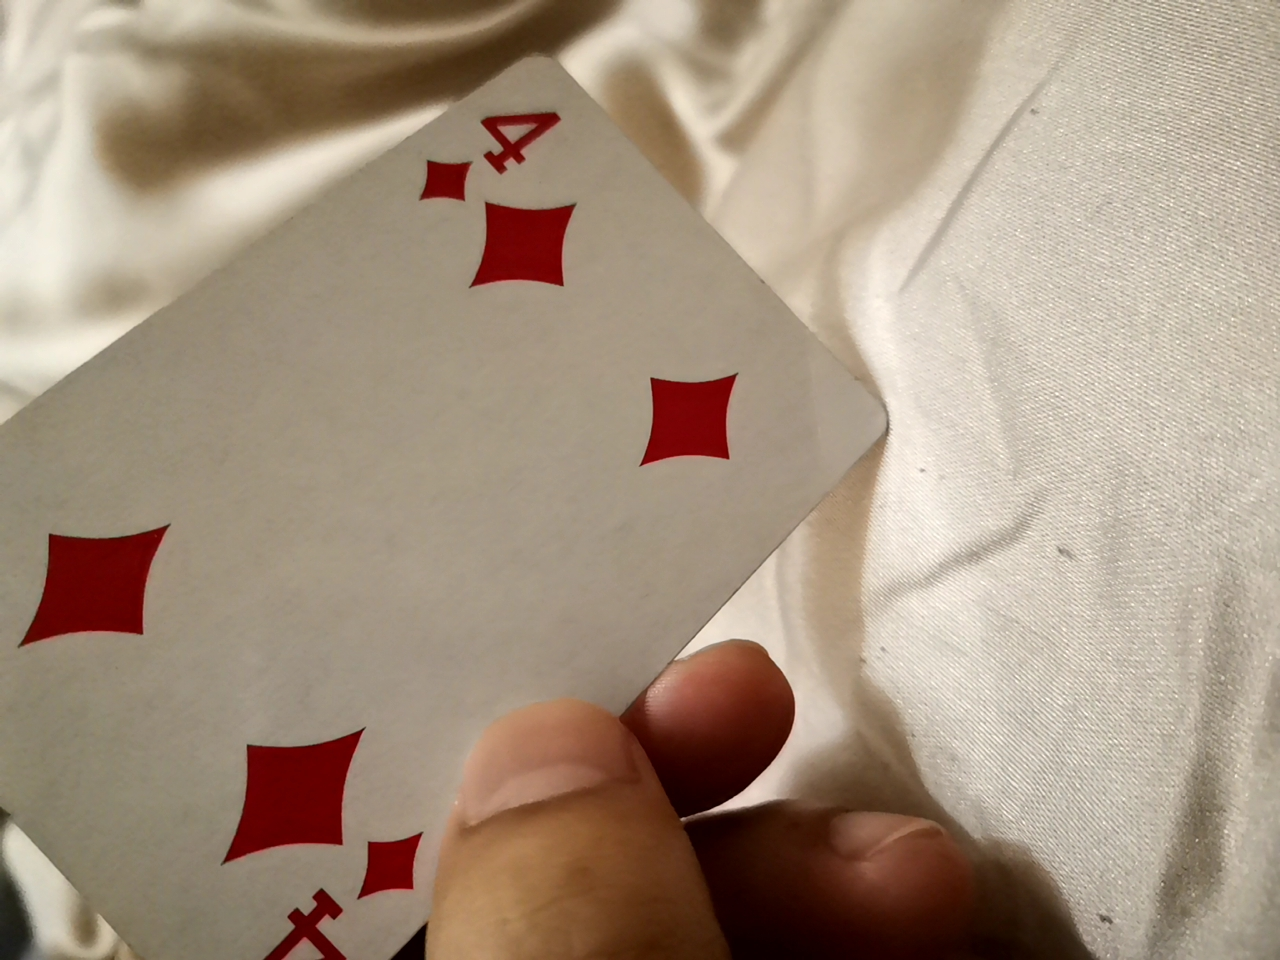fk 4: (7, 49, 875, 952)
